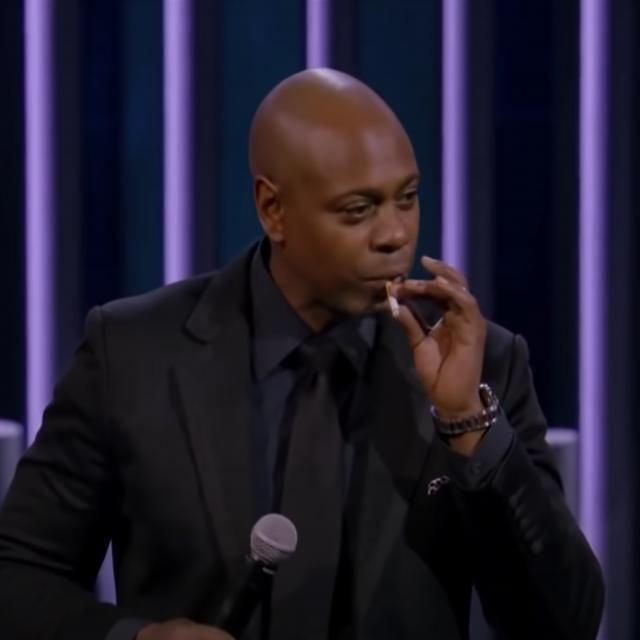cigarette: (385, 279, 408, 323)
